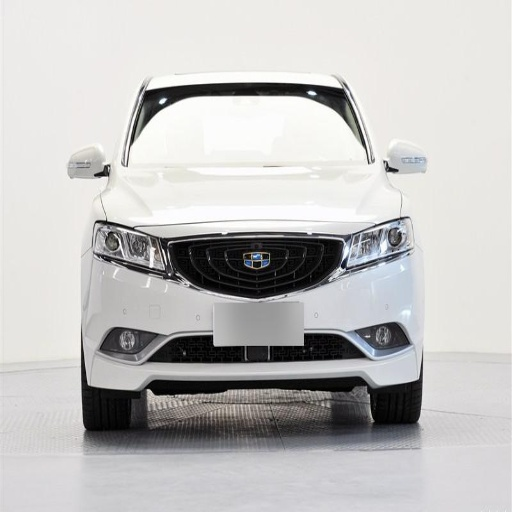front_bumper: (87, 224, 421, 383)
front_right_light: (93, 220, 174, 277)
hood: (107, 162, 398, 234)
left_mirror: (385, 140, 427, 172)
